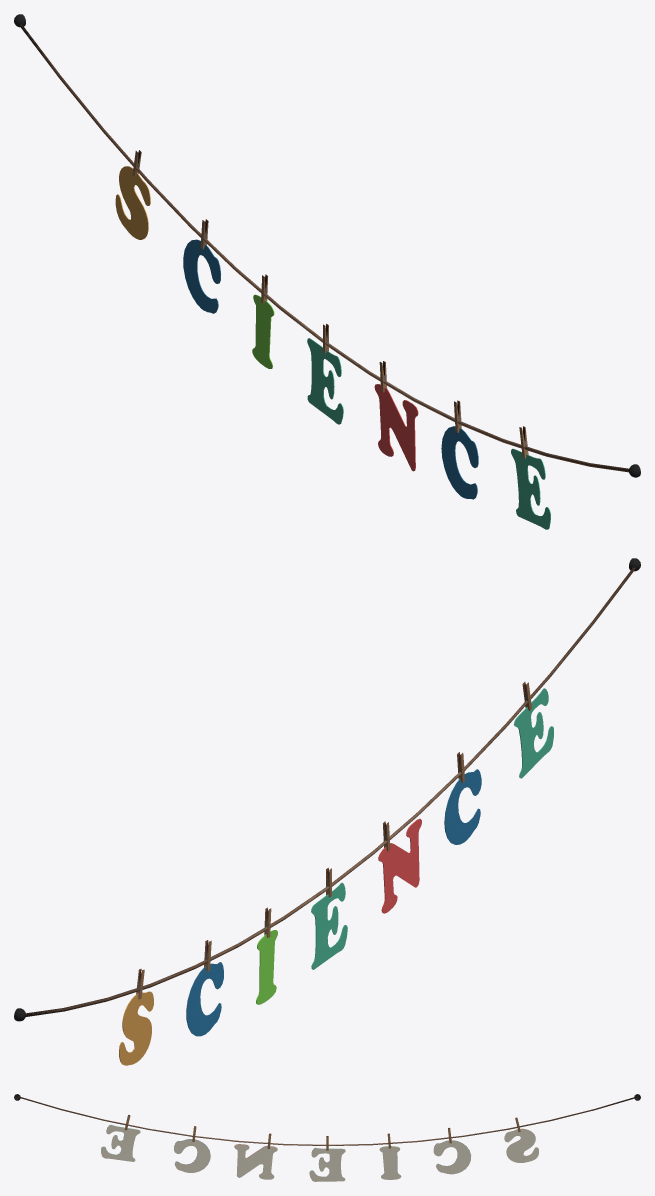
The model's file is SM_Hanging_Letters_01aScience.fbx.
3 renders of one model, top to bottom at view 1: azimuth 30°, elevation 25°; view 2: azimuth 150°, elevation 25°; view 3: azimuth 270°, elevation 25°, orthographic. The views are drawn at different scales.
Parts seen in each view (by area): view 1: SM_Hanging_Letters_01aScience_LOD0; view 2: SM_Hanging_Letters_01aScience_LOD0; view 3: SM_Hanging_Letters_01aScience_LOD0.
Boxes of the visible parts, x1,y1,x2,y2 form: SM_Hanging_Letters_01aScience_LOD0: [14, 14, 640, 529]; SM_Hanging_Letters_01aScience_LOD0: [14, 558, 640, 1065]; SM_Hanging_Letters_01aScience_LOD0: [14, 1094, 640, 1181].
Bounding box in the file's own units: 1.52 × 201 × 31.21.
1 material, 1 textured.
